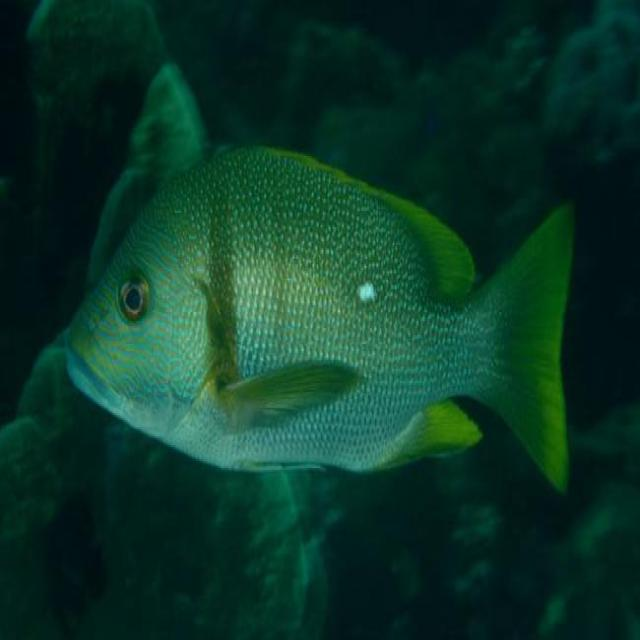ikan: (63, 140, 576, 493)
